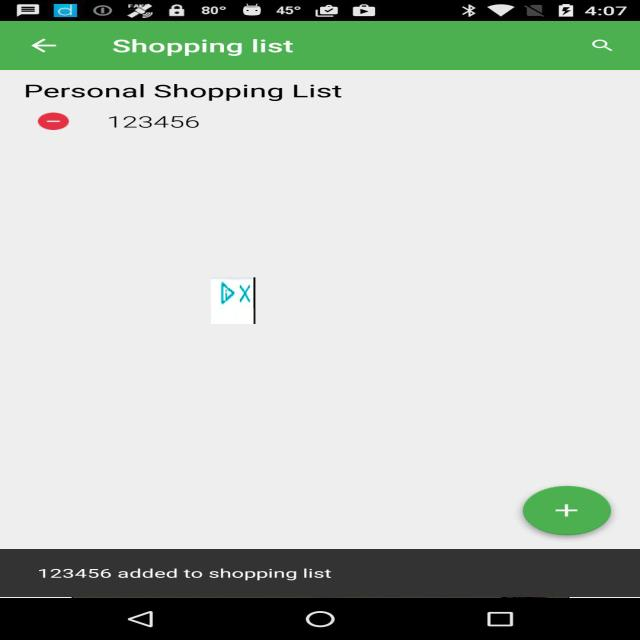sneaking: (211, 277, 255, 324)
